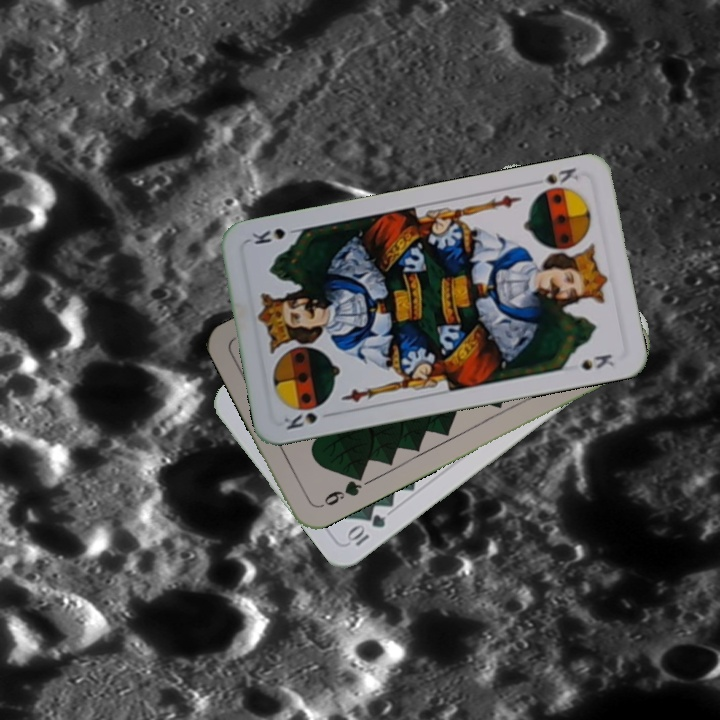G10: (343, 510, 389, 549)
G9: (314, 470, 366, 511)
SK: (527, 163, 581, 198), (279, 408, 320, 433)
